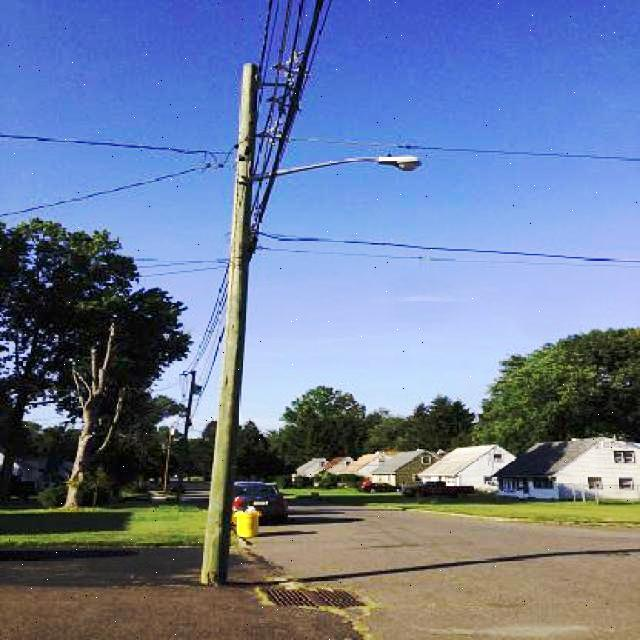poles: (200, 64, 259, 585)
wires: (258, 0, 356, 268), (12, 129, 231, 222), (259, 228, 639, 275), (182, 271, 227, 389)
